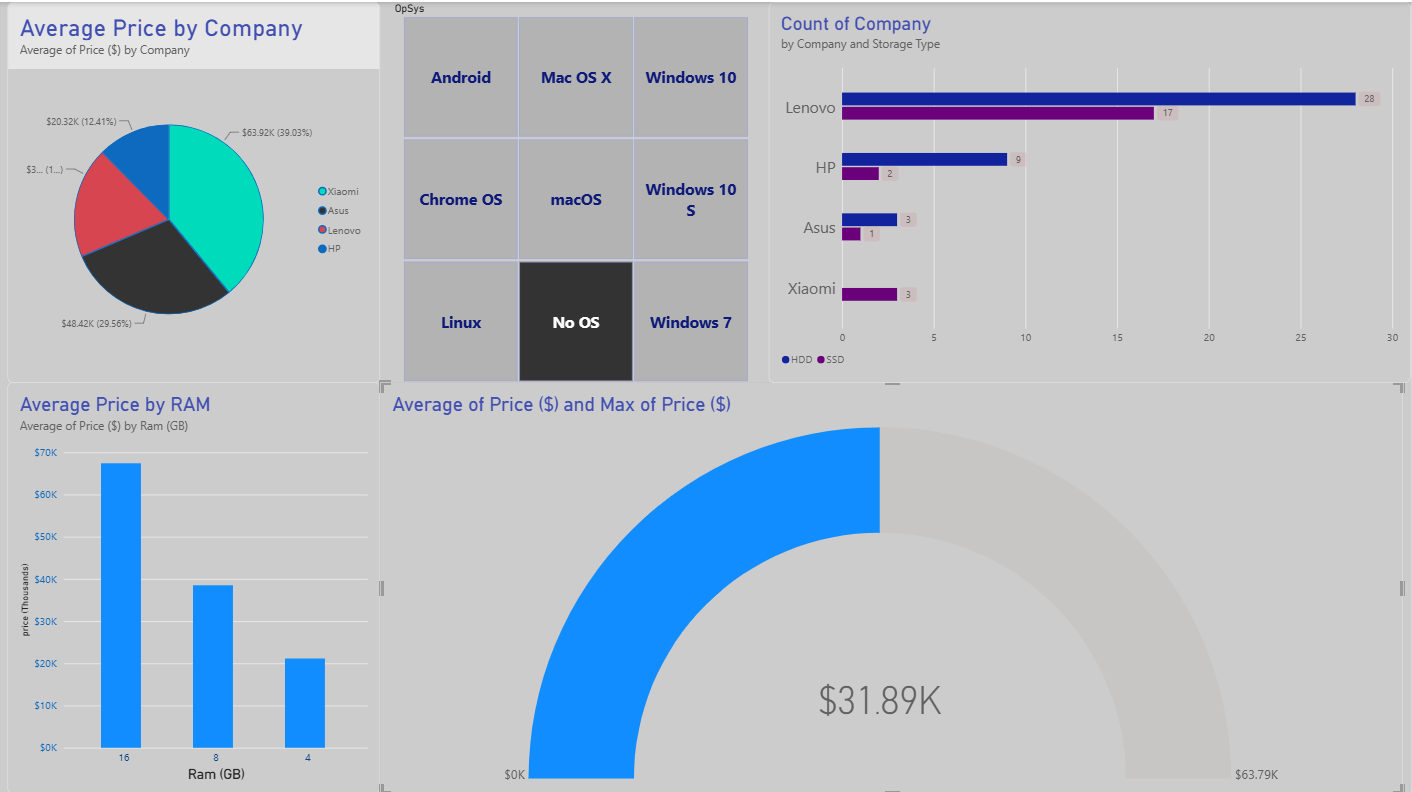

Layout of this report page (visuals, bound fields, positions):
{"tool":"powerbi","page":{"name":"Page 1","canvas":[1920,1080],"ordinal":0},"visuals":[{"type":"pieChart","title":"Average Price by Company","fields":{"Category":["laptopData.Company"],"Y":["Avg(laptopData.Price ($))"]},"box":[10.5,0,507.6,518],"z":0},{"type":"clusteredColumnChart","title":"Average Price by RAM","fields":{"Category":["laptopData.Ram (GB)"],"Y":["Avg(laptopData.Price ($))"]},"box":[10.5,518,507.6,561.6],"z":1},{"type":"slicer","fields":{"Values":["laptopData.OpSys"]},"box":[528.5,0,507.6,518],"z":2},{"type":"gauge","fields":{"TargetValue":["Max(laptopData.Price ($))1"],"Y":["Avg(laptopData.Price ($))"]},"box":[518,518,1391.9,561.6],"z":3},{"type":"clusteredBarChart","fields":{"Category":["laptopData.Company"],"Series":["laptopData.Storage Type"],"Y":["CountNonNull(laptopData.Company)"]},"box":[1046.5,0,873.8,518],"z":4}]}

Visuals, with their boxes in screenshot pixels (x1, y1, x2, y2), scaled from the page's 1920x1080 canvas onto the 1412x792 screenshot:
"Average Price by Company" pieChart: rect(8, 0, 381, 380)
"Average Price by RAM" clusteredColumnChart: rect(8, 380, 381, 791)
slicer - laptopData.OpSys: rect(389, 0, 762, 380)
gauge - Max(laptopData.Price ($))1 x Avg(laptopData.Price ($)): rect(381, 380, 1405, 791)
clusteredBarChart - laptopData.Company x laptopData.Storage Type: rect(770, 0, 1411, 380)
